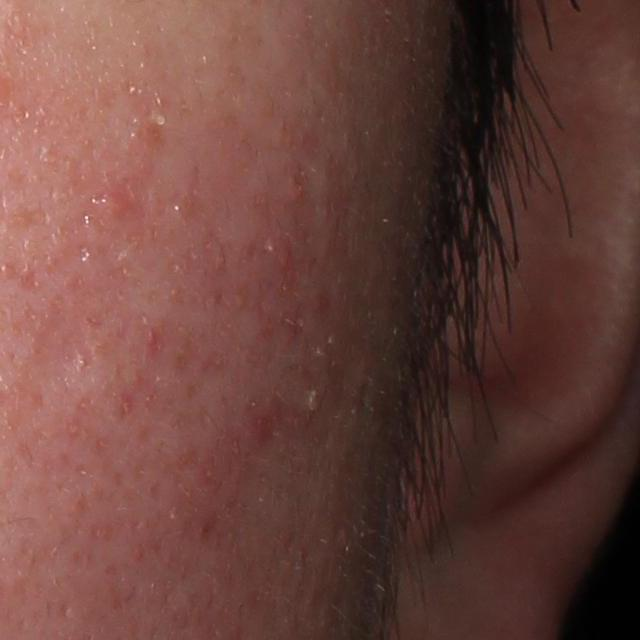papule: (91, 184, 124, 218)
